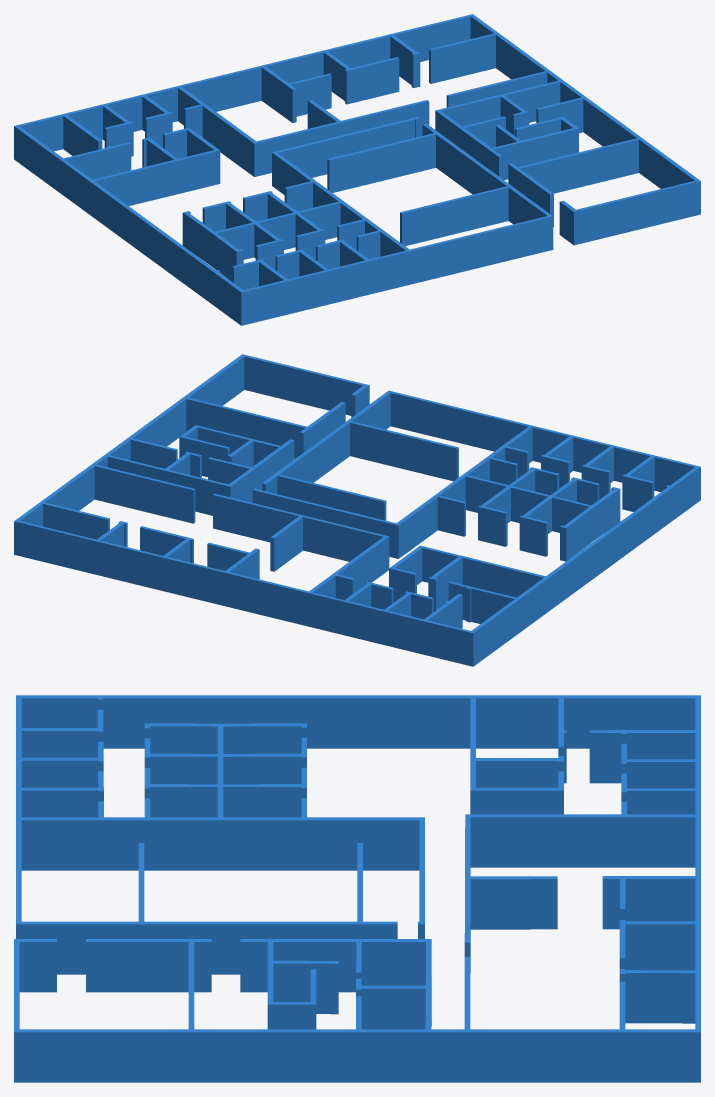
File: Floorplan.fbx
3 views of the same model, one above another, from view 1: azimuth 30°, elevation 25°; view 2: azimuth 150°, elevation 25°; view 3: azimuth 270°, elevation 25° (orthographic). The views are drawn at different scales.
Parts seen in each view (by area): view 1: Plane; view 2: Plane; view 3: Plane.
Part boxes in pixels (x1,y1,x2,y2): Plane: (14,14,700,325); Plane: (14,354,700,666); Plane: (14,695,700,1082).
Bounding box in the file's own units: 3915 × 273 × 3372.
